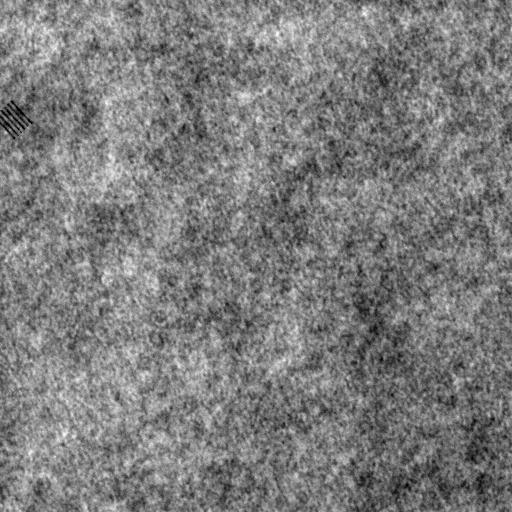DefectTypeB: (1, 99, 32, 140)
